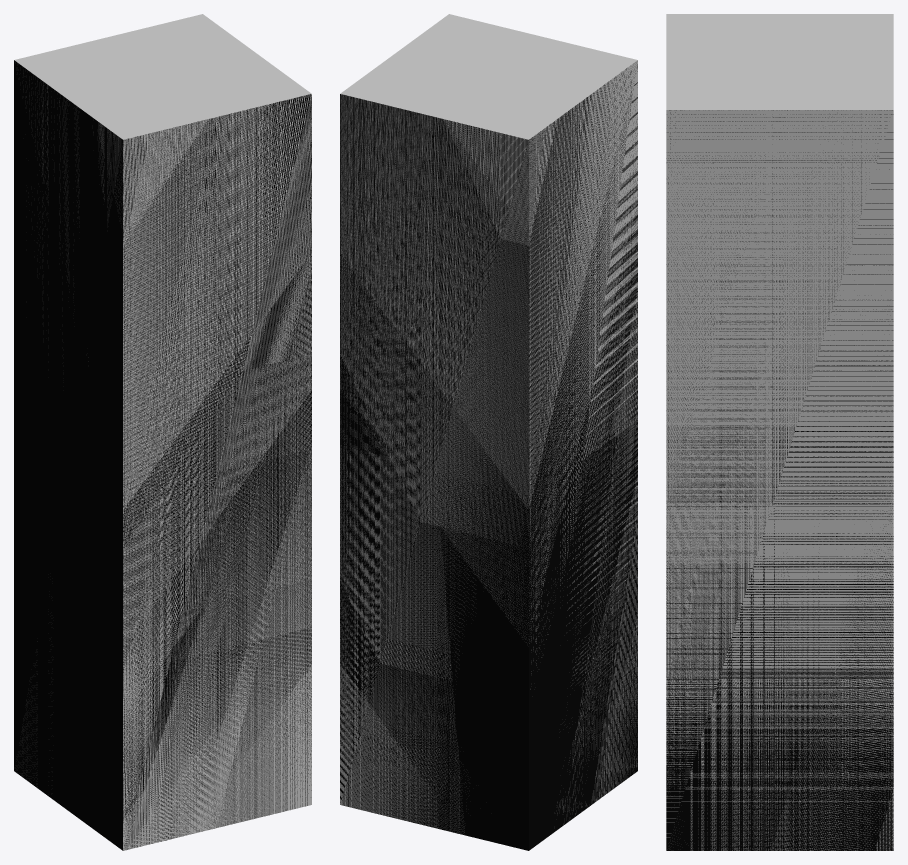
File: bottle_02.DAE
3 views of the same model, side by side, from view 1: azimuth 30°, elevation 25°; view 2: azimuth 150°, elevation 25°; view 3: azimuth 270°, elevation 25° (orthographic). The views are drawn at different scales.
Parts seen in each view (by area): view 1: colbox-1, bounds; view 2: colbox-1, bounds; view 3: bounds, colbox-1.
Part boxes in pixels (left/top/right/bottom): colbox-1: left=14, top=60, right=311, bottom=850; bounds: left=14, top=14, right=311, bottom=850; colbox-1: left=340, top=64, right=637, bottom=850; bounds: left=340, top=14, right=637, bottom=834; bounds: left=666, top=14, right=893, bottom=850; colbox-1: left=666, top=110, right=893, bottom=850.
Size of the model in its own units: 15.81 by 15.83 by 56.93.
